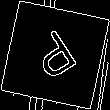P_SE: (26, 23, 84, 87)
